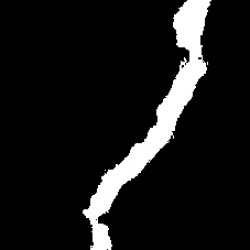crack: (85, 3, 209, 248)
